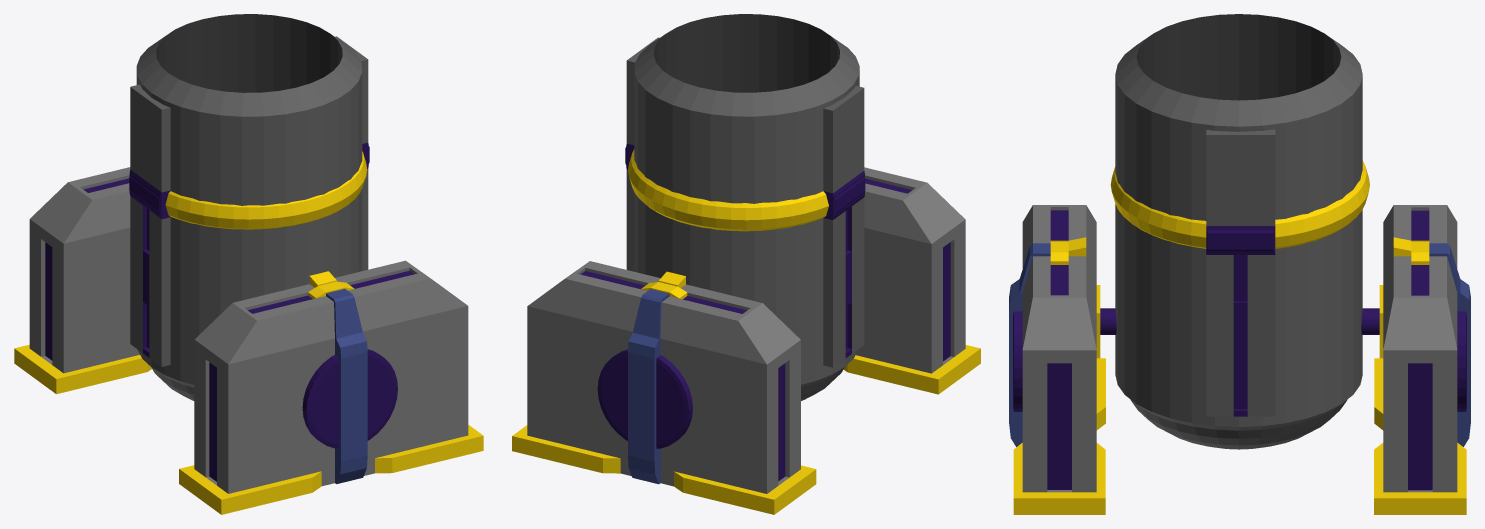
File: mortar1.fbx
3 renders of one model, left to right at view 1: azimuth 30°, elevation 25°; view 2: azimuth 150°, elevation 25°; view 3: azimuth 270°, elevation 25°, orthographic. The views are drawn at different scales.
Parts seen in each view (by area): view 1: Platform, Cannon; view 2: Platform, Cannon; view 3: Cannon, Platform.
Boxes of the visible parts, box(x1,y1,x2,y2) form: Platform: box(14, 167, 483, 514); Cannon: box(129, 14, 369, 400); Platform: box(512, 167, 980, 514); Cannon: box(625, 14, 865, 400); Cannon: box(1110, 14, 1369, 449); Platform: box(1009, 205, 1470, 514).
Size of the model in its own units: 508 by 655 by 707.
